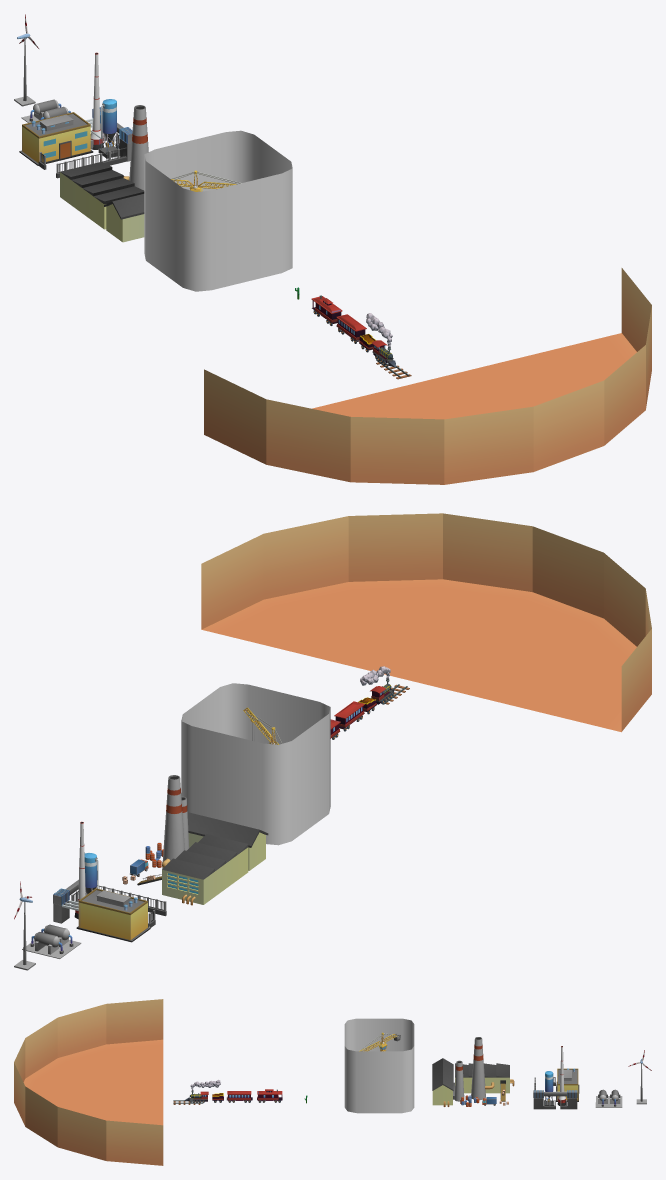
File: assets_t1_a3.fbx
3 renders of one model, top to bottom at view 1: azimuth 30°, elevation 25°; view 2: azimuth 150°, elevation 25°; view 3: azimuth 270°, elevation 25°, orthographic. The views are drawn at different scales.
Visible parts, largest first — view 1: ground_era3, godray_era3, assets_era3_2, assets_era3_3, assets_era3_71; view 2: ground_era3, godray_era3, assets_era3_2, assets_era3_3, assets_era3_4, assets_era3_71; view 3: ground_era3, godray_era3, assets_era3_2, assets_era3_3, assets_era3_4, assets_era3_71, assets_era3_1, assets_era3_74, assets_era3_73.
Boxes of the visible parts, <box> form: ground_era3: <box>204,268,651,484</box>; godray_era3: <box>144,130,292,291</box>; assets_era3_2: <box>60,105,148,242</box>; assets_era3_3: <box>19,52,132,178</box>; assets_era3_71: <box>366,313,395,367</box>; ground_era3: <box>201,513,651,732</box>; godray_era3: <box>181,683,330,845</box>; assets_era3_2: <box>122,775,268,905</box>; assets_era3_3: <box>53,821,166,942</box>; assets_era3_4: <box>22,924,81,958</box>; assets_era3_71: <box>360,666,394,704</box>; ground_era3: <box>14,999,163,1165</box>; godray_era3: <box>344,1018,414,1113</box>; assets_era3_2: <box>432,1037,514,1106</box>; assets_era3_3: <box>533,1046,579,1109</box>; assets_era3_4: <box>595,1089,622,1107</box>; assets_era3_71: <box>184,1079,220,1102</box>; assets_era3_1: <box>359,1032,400,1051</box>; assets_era3_74: <box>257,1089,282,1102</box>; assets_era3_73: <box>226,1091,252,1102</box>.
Size of the model in its own units: 162 by 36.96 by 345.
